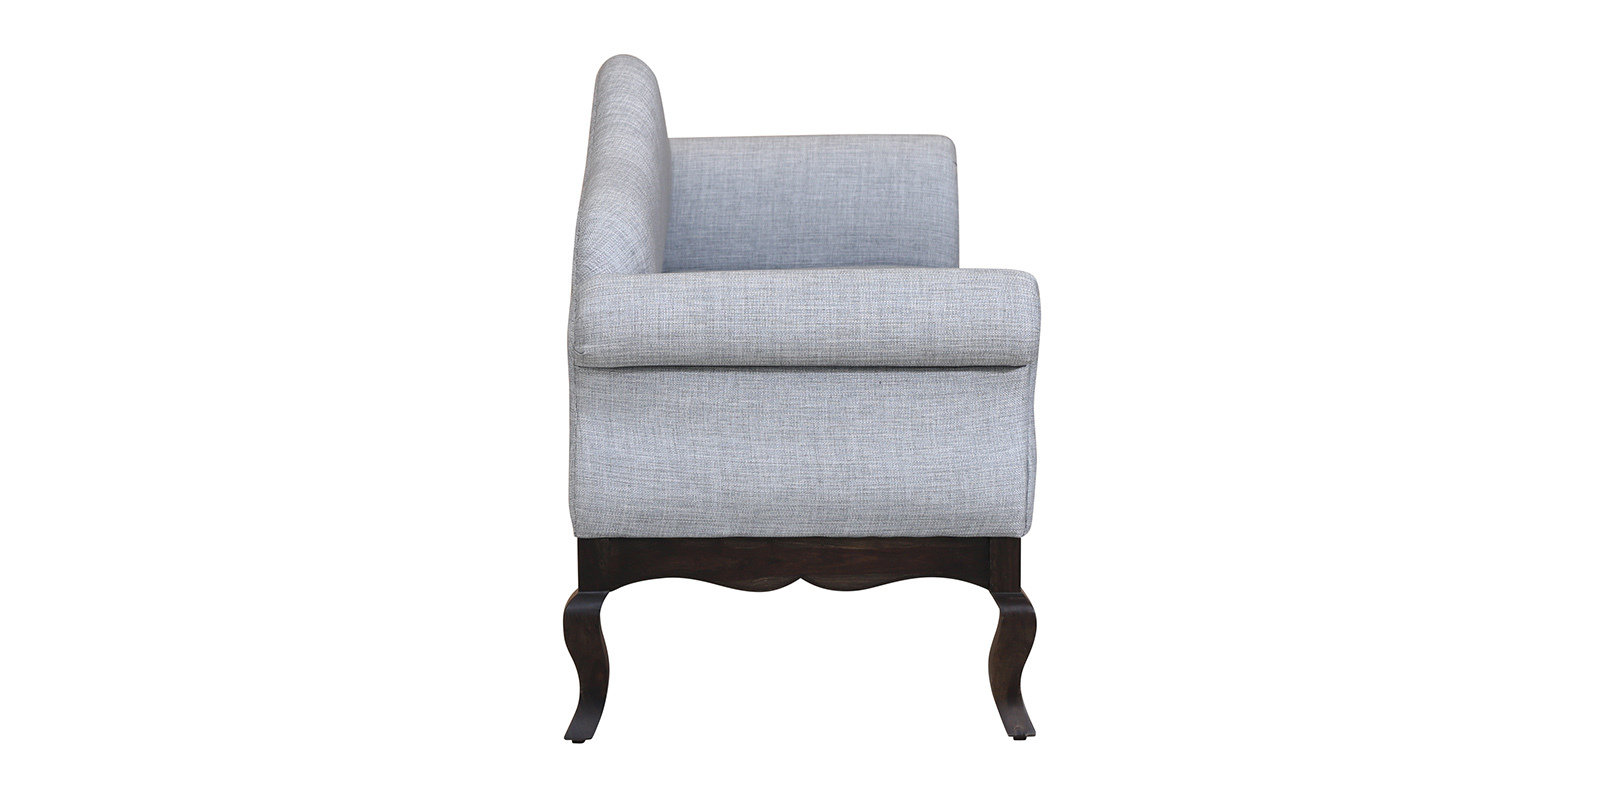Anne Three Seater Sofa in Warm Chestnut Finish by Amberville: (552, 43, 1038, 703)
